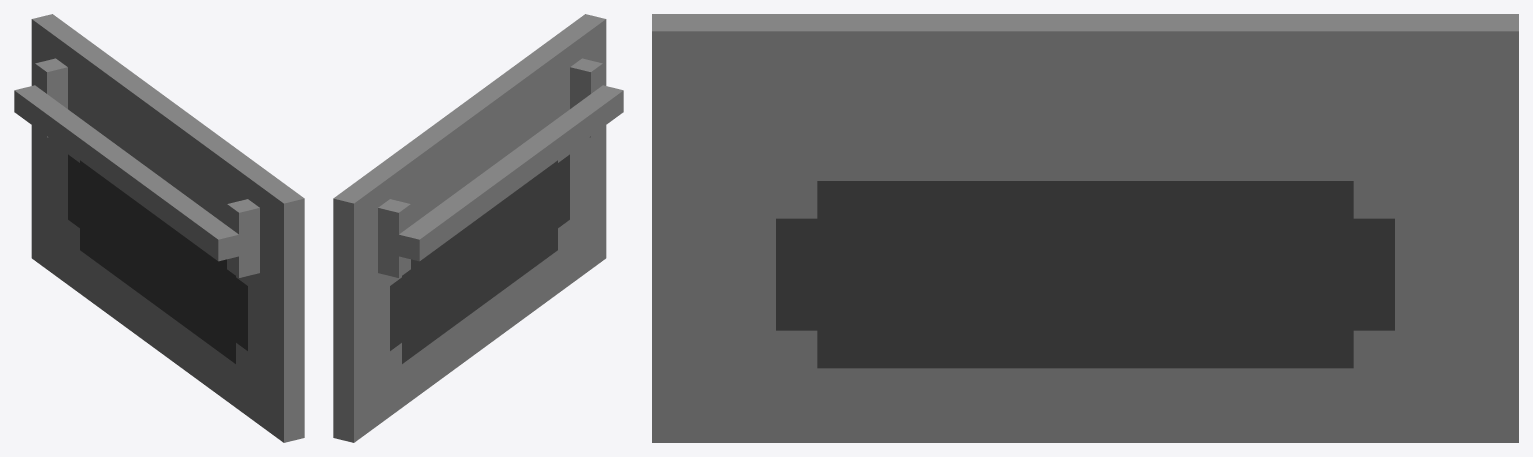
Rendered from gas_stove_door.obj.
3 renders of one model, left to right at view 1: azimuth 30°, elevation 25°; view 2: azimuth 150°, elevation 25°; view 3: azimuth 270°, elevation 25°, orthographic. The views are drawn at different scales.
Size of the model in its own units: 0.3 by 1.1 by 2.1.
